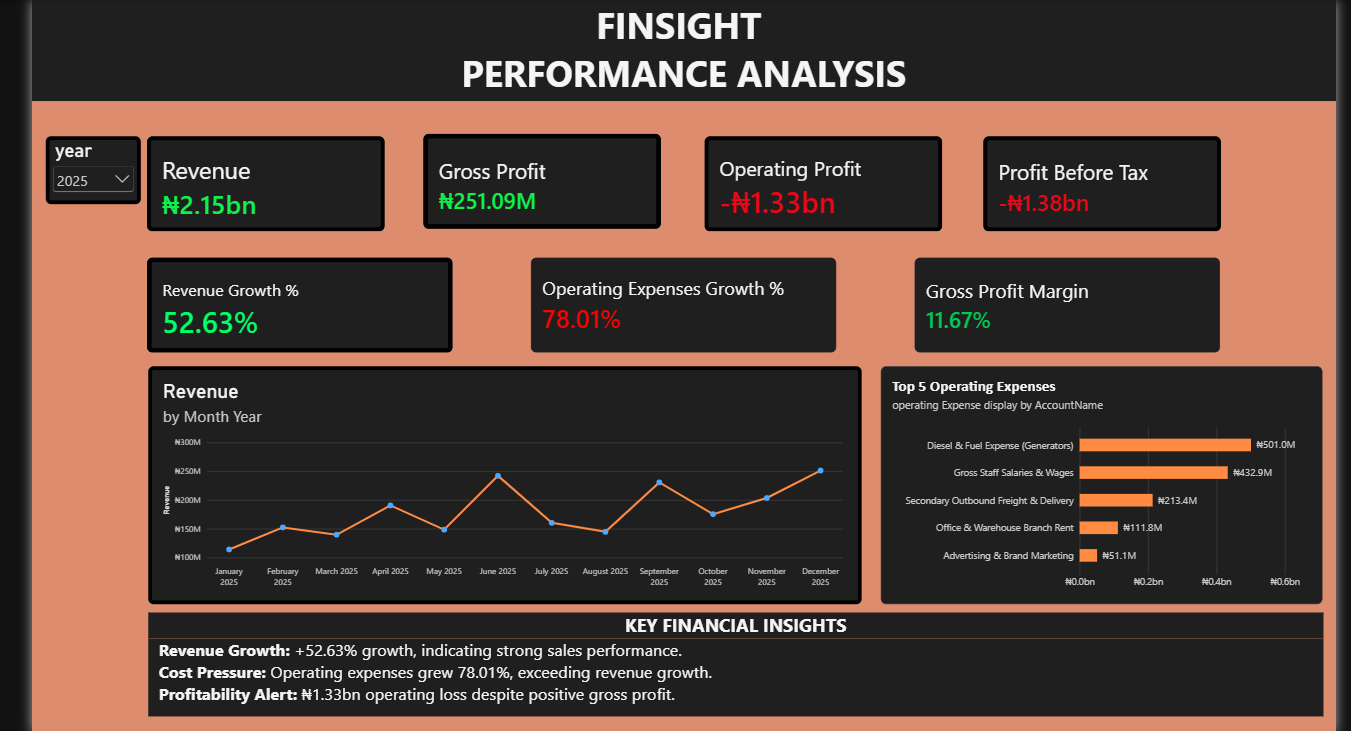

The dashboard page shown, as its layout file describes it:
{"tool":"powerbi","page":{"name":"Executive Page","canvas":[1920,1080],"ordinal":0},"visuals":[{"type":"cardVisual","fields":{"Data":["FactFinancialTransactions.Revenue"]},"box":[170,200,350,140],"z":0},{"type":"cardVisual","fields":{"Data":["FactFinancialTransactions.Gross Profit"]},"box":[576.9,197.5,350,140],"z":1000},{"type":"cardVisual","fields":{"Data":["FactFinancialTransactions.Profit Before Tax"]},"box":[1400,200,350,140],"z":2000},{"type":"lineChart","fields":{"Category":["Date.Month Year"],"Y":["FactFinancialTransactions.Revenue"]},"box":[171.2,539.3,1050,350],"z":3000},{"type":"slicer","fields":{"Values":["Date.year"]},"box":[20,200,140,100],"z":4000},{"type":"cardVisual","fields":{"Data":["FactFinancialTransactions.Operating Profit"]},"box":[990,200,350,140],"z":5000},{"type":"cardVisual","fields":{"Data":["FactFinancialTransactions.Gross Profit Margin"]},"box":[1300,380,450,140],"z":6000},{"type":"cardVisual","fields":{"Data":["FactFinancialTransactions.Revenue Growth %"]},"box":[170,380,450,140],"z":8000},{"type":"cardVisual","fields":{"Data":["FactFinancialTransactions.Operating Expenses Growth %"]},"box":[735,380,450,140],"z":9000},{"type":"clusteredBarChart","title":"Top 5 Operating Expenses ","fields":{"Category":["DimAccount.AccountName"],"Y":["FactFinancialTransactions.operating Expense display"]},"box":[1249.7,539.3,650,350],"z":10000},{"type":"textbox","box":[171.2,901.8,1730.1,38.7],"z":10001},{"type":"textbox","box":[171.2,940.5,1730.1,114.1],"z":10002},{"type":"textbox","box":[0,0,1919.6,149.1],"z":10003}]}

Visuals, with their boxes on the page's 1920x1080 design canvas (x1, y1, x2, y2). These are canvas units, not pixel positions in the 1351x731 screenshot, which may show the page scaled, cropped or inside an application window:
cardVisual - FactFinancialTransactions.Revenue: (170, 200, 520, 340)
cardVisual - FactFinancialTransactions.Gross Profit: (577, 198, 927, 338)
cardVisual - FactFinancialTransactions.Profit Before Tax: (1400, 200, 1750, 340)
lineChart - Date.Month Year x FactFinancialTransactions.Revenue: (171, 539, 1221, 889)
slicer - Date.year: (20, 200, 160, 300)
cardVisual - FactFinancialTransactions.Operating Profit: (990, 200, 1340, 340)
cardVisual - FactFinancialTransactions.Gross Profit Margin: (1300, 380, 1750, 520)
cardVisual - FactFinancialTransactions.Revenue Growth %: (170, 380, 620, 520)
cardVisual - FactFinancialTransactions.Operating Expenses Growth %: (735, 380, 1185, 520)
"Top 5 Operating Expenses " clusteredBarChart: (1250, 539, 1900, 889)
textbox: (171, 902, 1901, 940)
textbox: (171, 940, 1901, 1055)
textbox: (0, 0, 1920, 149)
